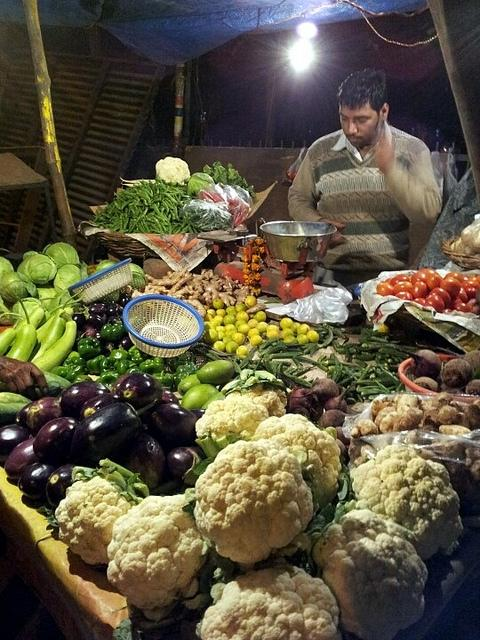cauliflower: (193, 438, 313, 564), (351, 445, 463, 558), (106, 494, 206, 610), (321, 532, 428, 640), (195, 564, 342, 640), (250, 413, 342, 508), (195, 383, 288, 458), (55, 476, 133, 565), (156, 156, 190, 184)
eggplant: (74, 398, 158, 458), (110, 431, 166, 488), (151, 402, 199, 448), (113, 372, 163, 416), (58, 381, 112, 421), (33, 417, 80, 461), (17, 460, 62, 499), (5, 438, 46, 477), (26, 397, 64, 438), (164, 446, 208, 481), (46, 464, 76, 509), (80, 393, 122, 421), (0, 424, 29, 464), (86, 310, 107, 330), (161, 388, 179, 405), (72, 313, 89, 331), (88, 302, 106, 316), (106, 303, 122, 317), (189, 408, 207, 419), (117, 294, 130, 307), (85, 326, 96, 338)
